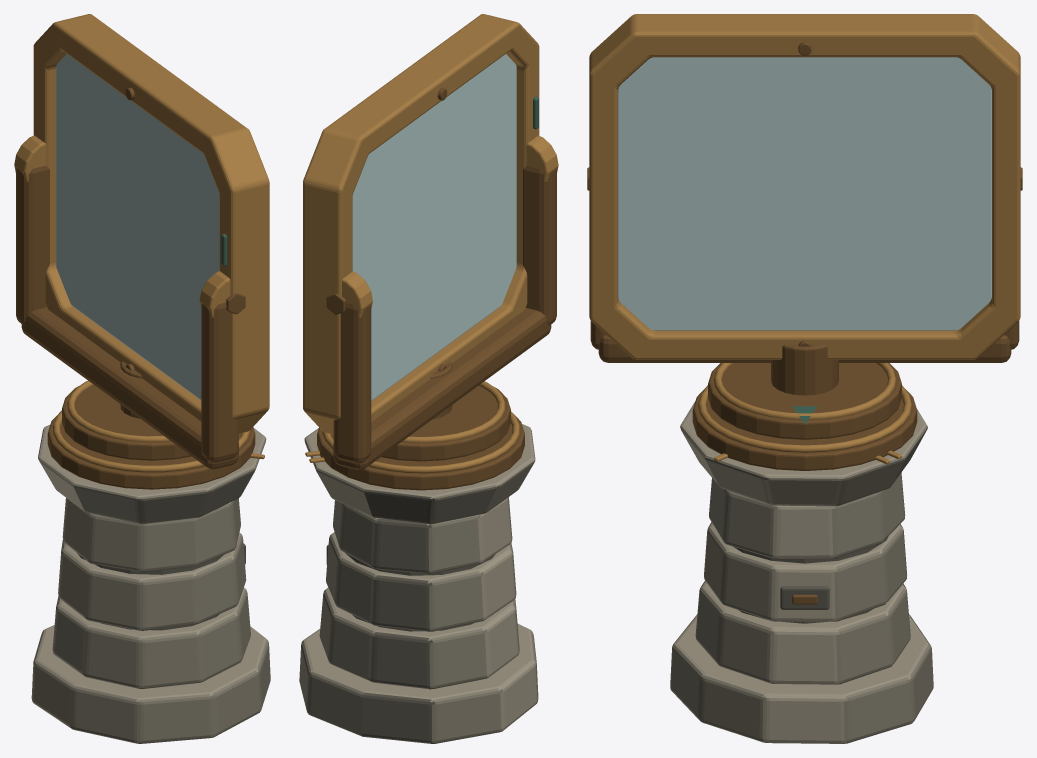
The model's file is ancient_reflector_v1.glb.
3 views of the same model, side by side, from view 1: azimuth 30°, elevation 25°; view 2: azimuth 150°, elevation 25°; view 3: azimuth 270°, elevation 25° (orthographic). The views are drawn at different scales.
Parts seen in each view (by area): view 1: RotatingAssembly, Pedestal; view 2: RotatingAssembly, Pedestal; view 3: RotatingAssembly, Pedestal.
Part boxes in pixels (x1,y1,x2,y2): RotatingAssembly: (14,14,269,469); Pedestal: (31,410,270,743); RotatingAssembly: (303,14,558,469); Pedestal: (299,411,538,743); RotatingAssembly: (587,14,1022,439); Pedestal: (670,385,933,743).
Bounding box in the file's own units: 0.5487 × 1.59 × 0.938.
